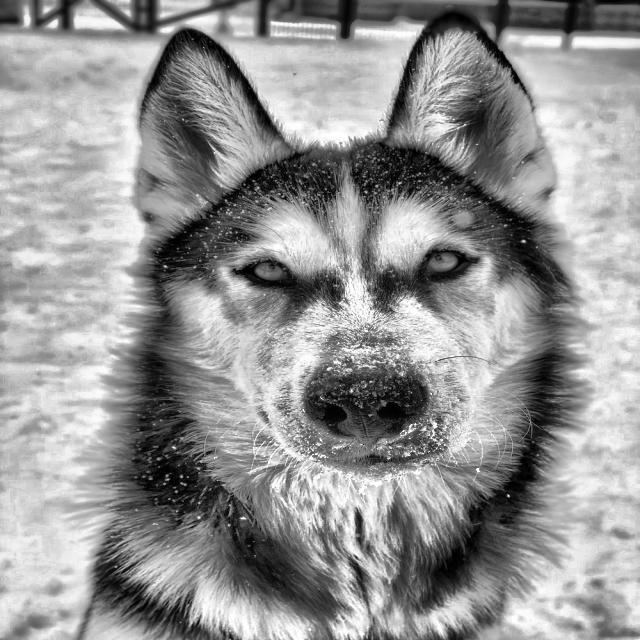husky: (72, 2, 591, 640)
